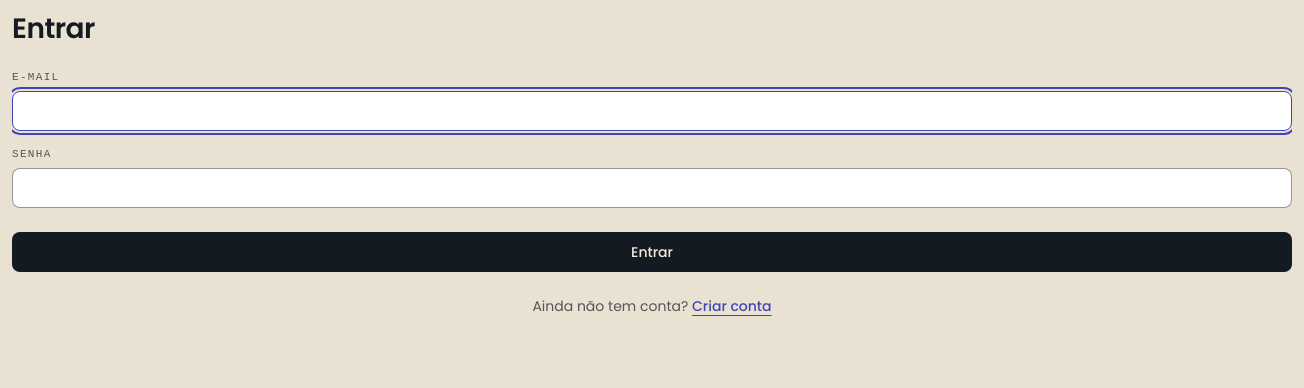
SignInForm › shows the API message in an alert above the form on wrong credentials
Type "helena@demo.local" into the field labelled "E-mail" at (652, 111), box [12, 91, 1292, 131]
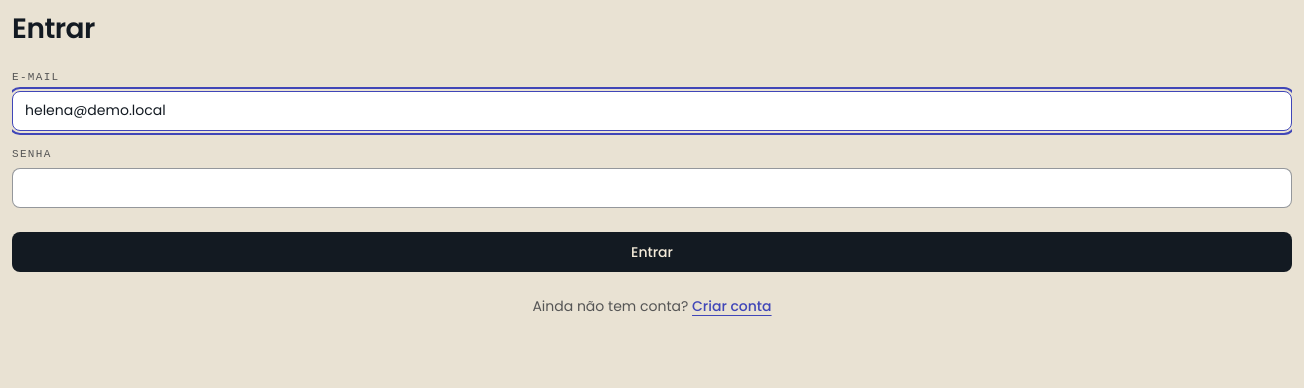
Type "errada123" into the password field labelled "Senha" at (652, 188), box [12, 168, 1292, 208]
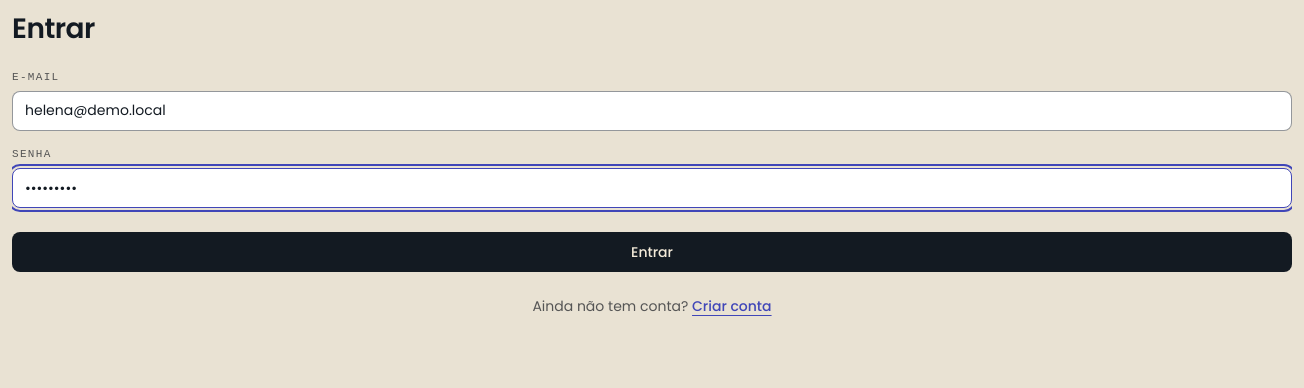
Click the button "Entrar" at (652, 252), box [12, 232, 1292, 272]
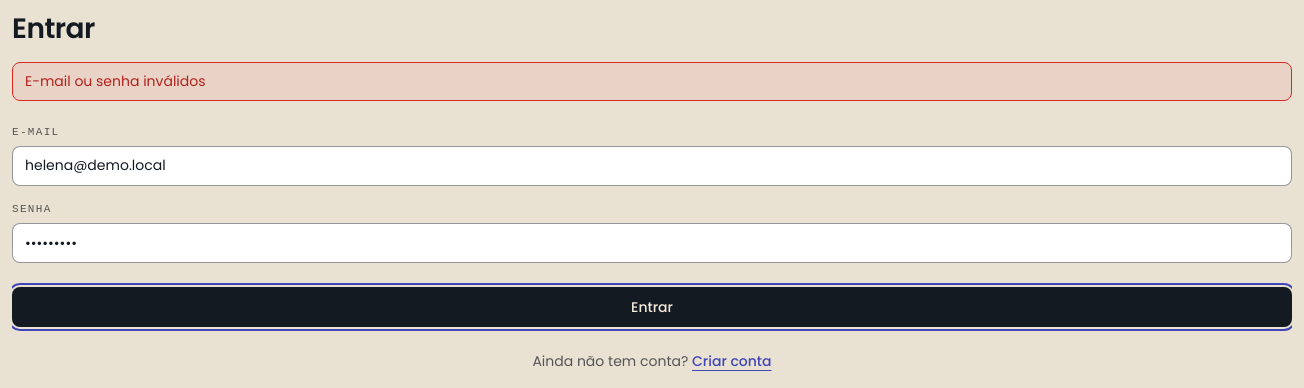
Check: the button "Entrar" is enabled, box [12, 287, 1292, 327]
Check: the message reads "E-mail ou senha inválidos", box [25, 71, 206, 91]
